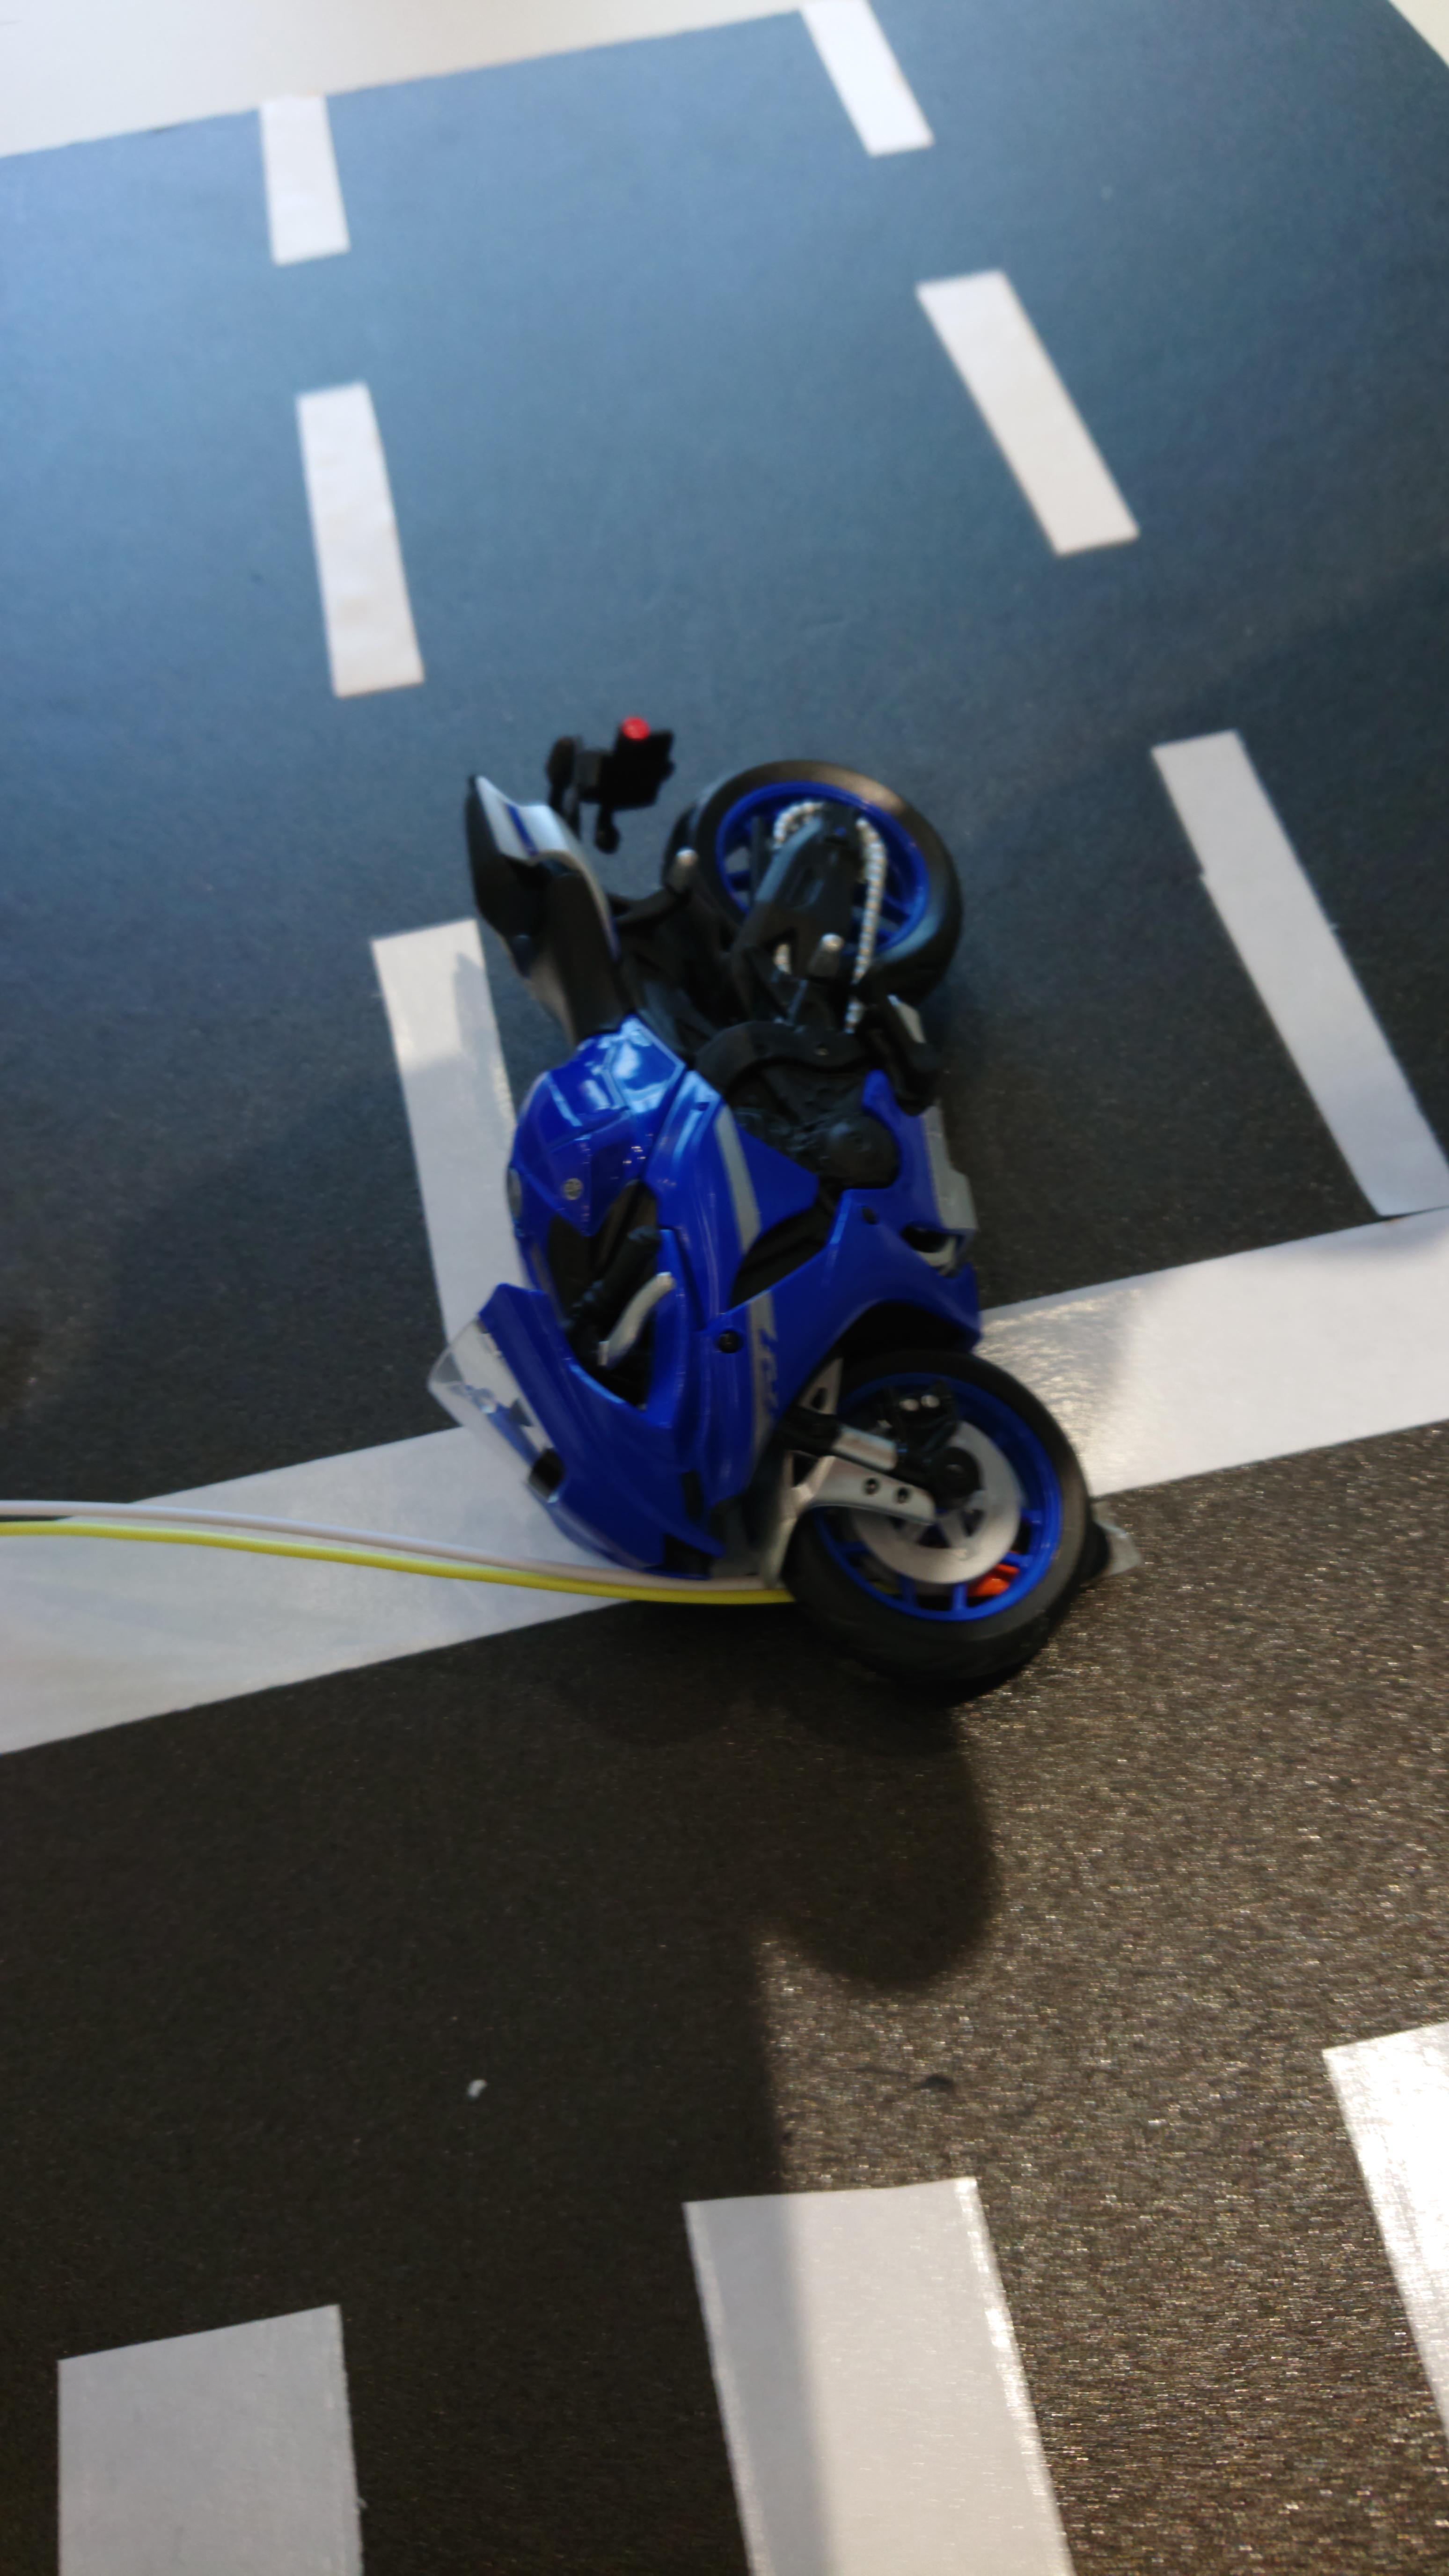Motorcycle: (407, 632, 1138, 1727)
